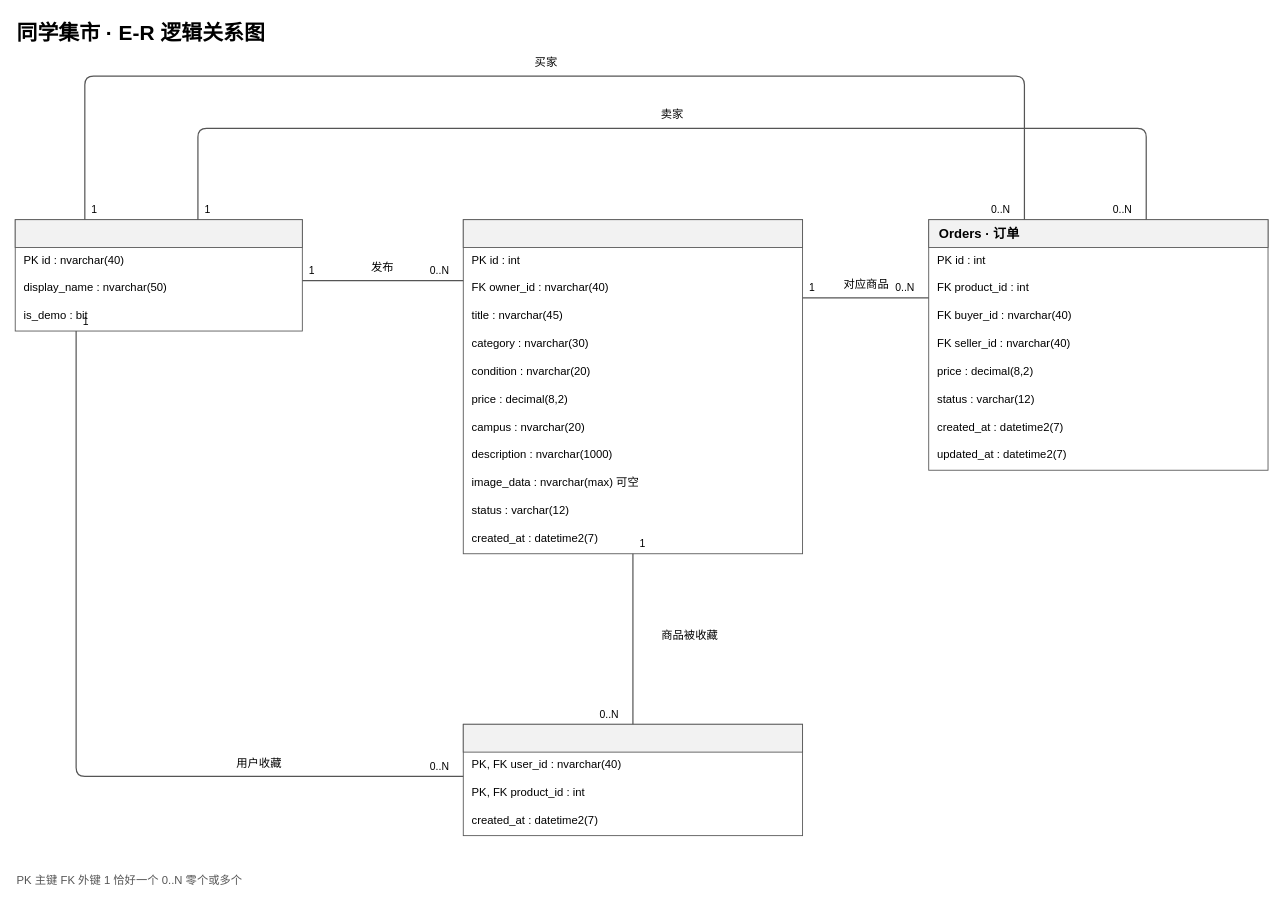
Image size: 1283x913. Some labels were removed from this diagram. Each missing label, with the centre of its shape:
Favorites · 收藏: the point at 632,737
Products · 商品: the point at 632,233
Users · 用户: the point at 158,233
